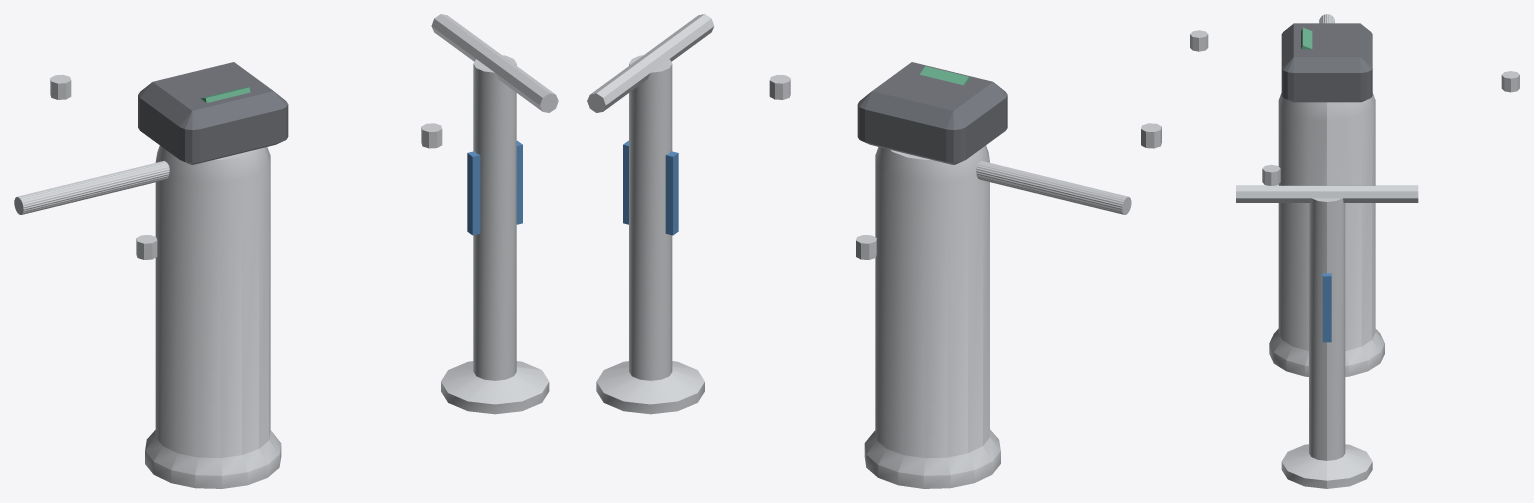
File: community-sports-hall-and-changing-rooms-entrance-turn-d36515c9__35118.glb
3 views of the same model, side by side, from view 1: azimuth 30°, elevation 25°; view 2: azimuth 150°, elevation 25°; view 3: azimuth 270°, elevation 25° (orthographic). The views are drawn at different scales.
Parts seen in each view (by area): view 1: entrance-turnstile, turnstile-arms; view 2: entrance-turnstile, turnstile-arms; view 3: entrance-turnstile, turnstile-arms.
Boxes of the visible parts, x1,y1,x2,y2 form: entrance-turnstile: (138,14,558,488); turnstile-arms: (14,74,442,259); entrance-turnstile: (587,14,1007,488); turnstile-arms: (769,74,1161,259); entrance-turnstile: (1236,23,1418,488); turnstile-arms: (1190,14,1519,185).
Size of the model in its own units: 1.67 by 1.15 by 1.09.
